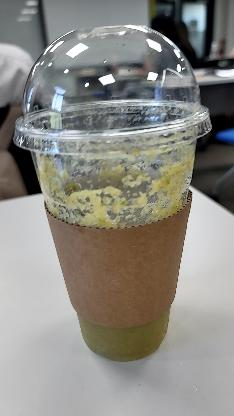Plastic Cup: (12, 15, 209, 371), (13, 26, 209, 158)
